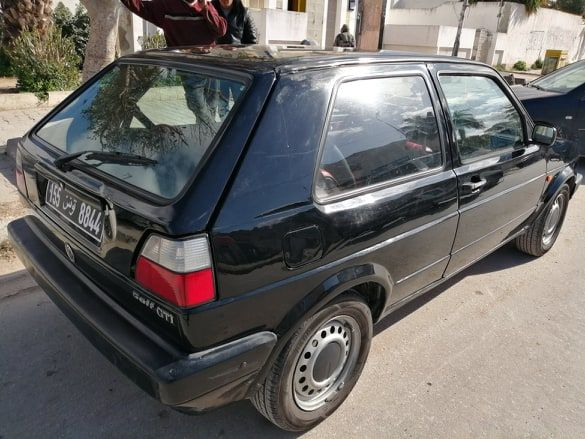LP: (43, 179, 106, 240)
